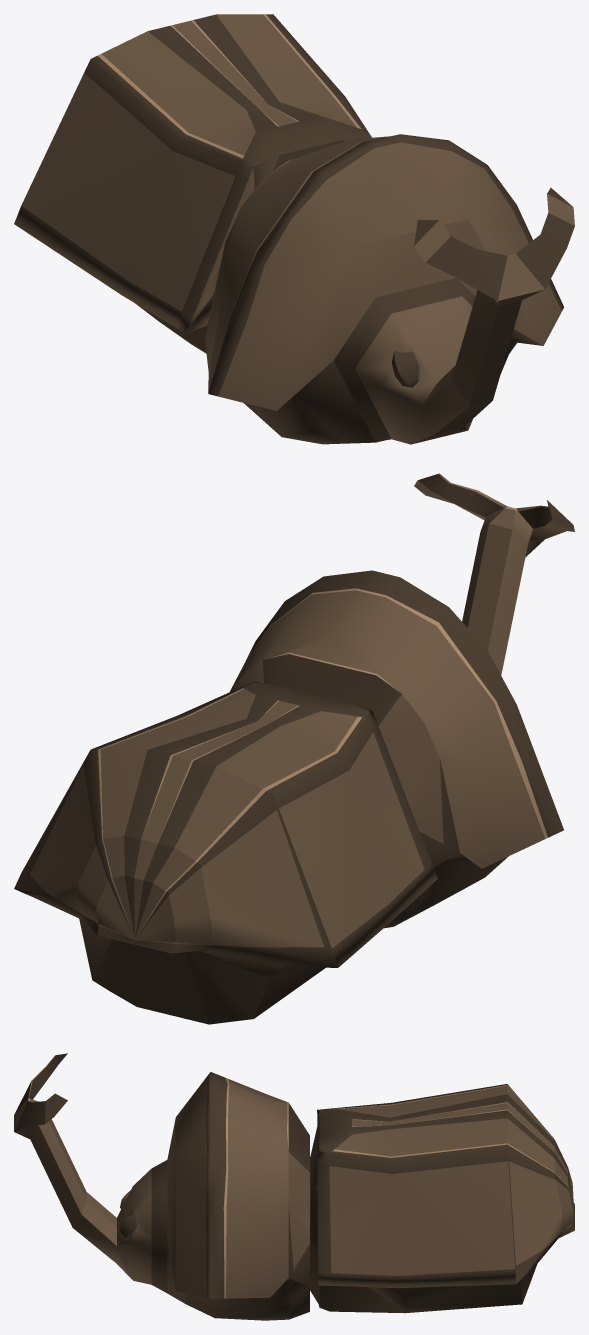
File: beetle_v2_model.fbx
The picture shows the model from 3 angles, top to bottom: view 1: azimuth 30°, elevation 25°; view 2: azimuth 150°, elevation 25°; view 3: azimuth 270°, elevation 25°; orthographic projection. The views are drawn at different scales.
Parts seen in each view (by area): view 1: pSphere4; view 2: pSphere4; view 3: pSphere4.
Part boxes in pixels (x1,y1,x2,y2): pSphere4: (14,14,574,444); pSphere4: (14,473,574,1024); pSphere4: (14,1053,574,1320).
Bounding box in the file's own units: 1.59 × 1.35 × 2.98.
